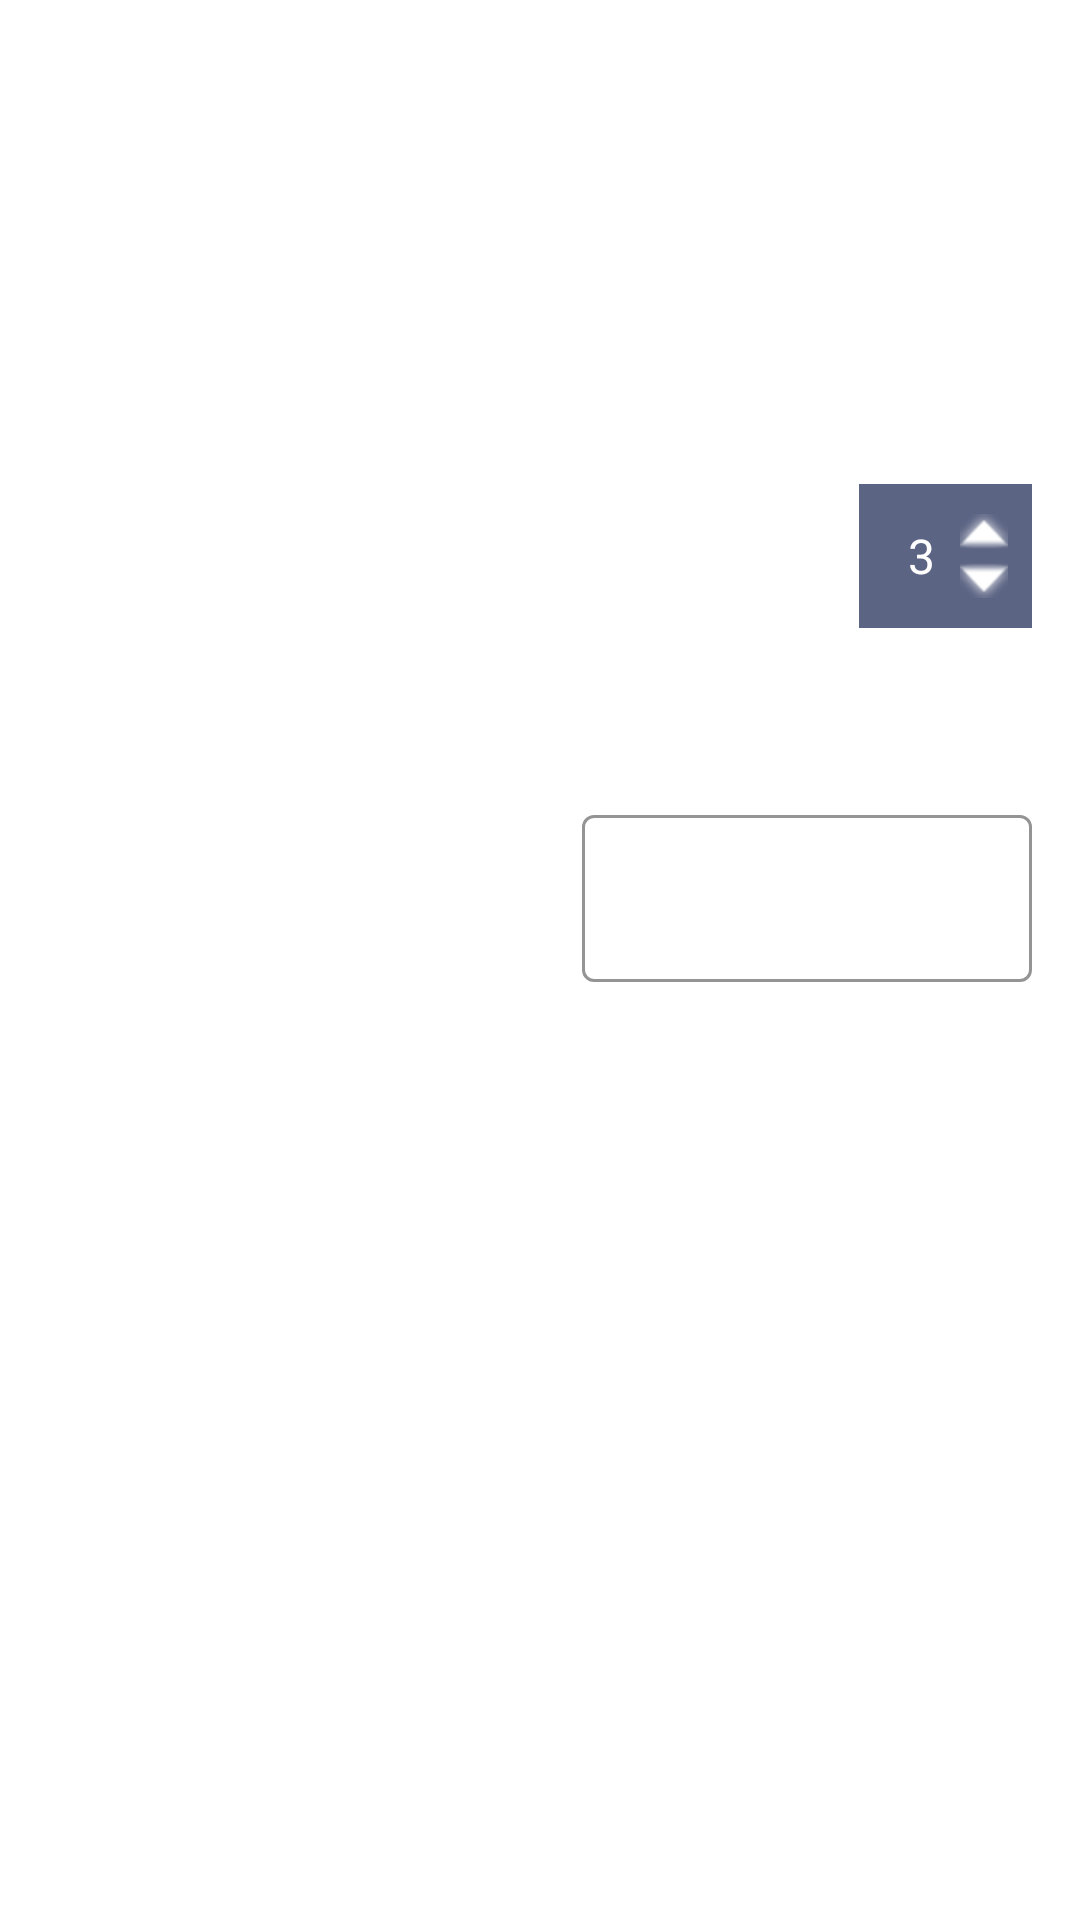

Point at icon controls on the screen. Image size 1080x1920, points as (x=x, y=y).
arrow down float: (x=984, y=580)
arrow up float: (x=984, y=532)
